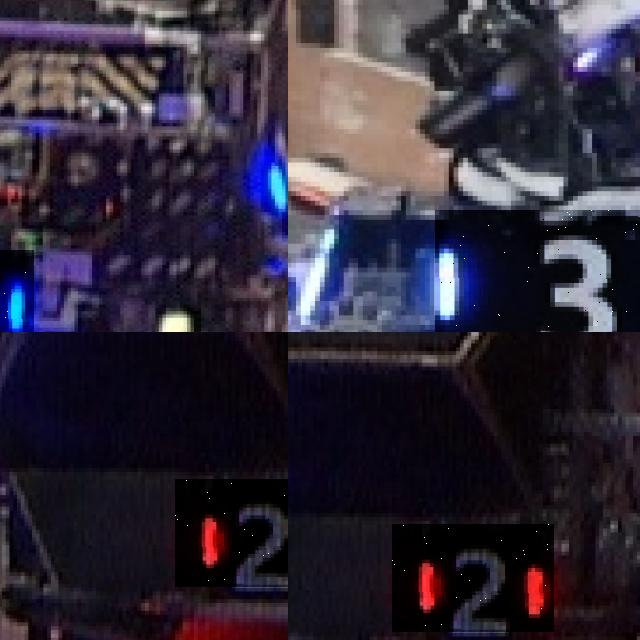B3: (434, 210, 640, 332)
R2: (392, 524, 554, 632), (175, 479, 288, 587)
